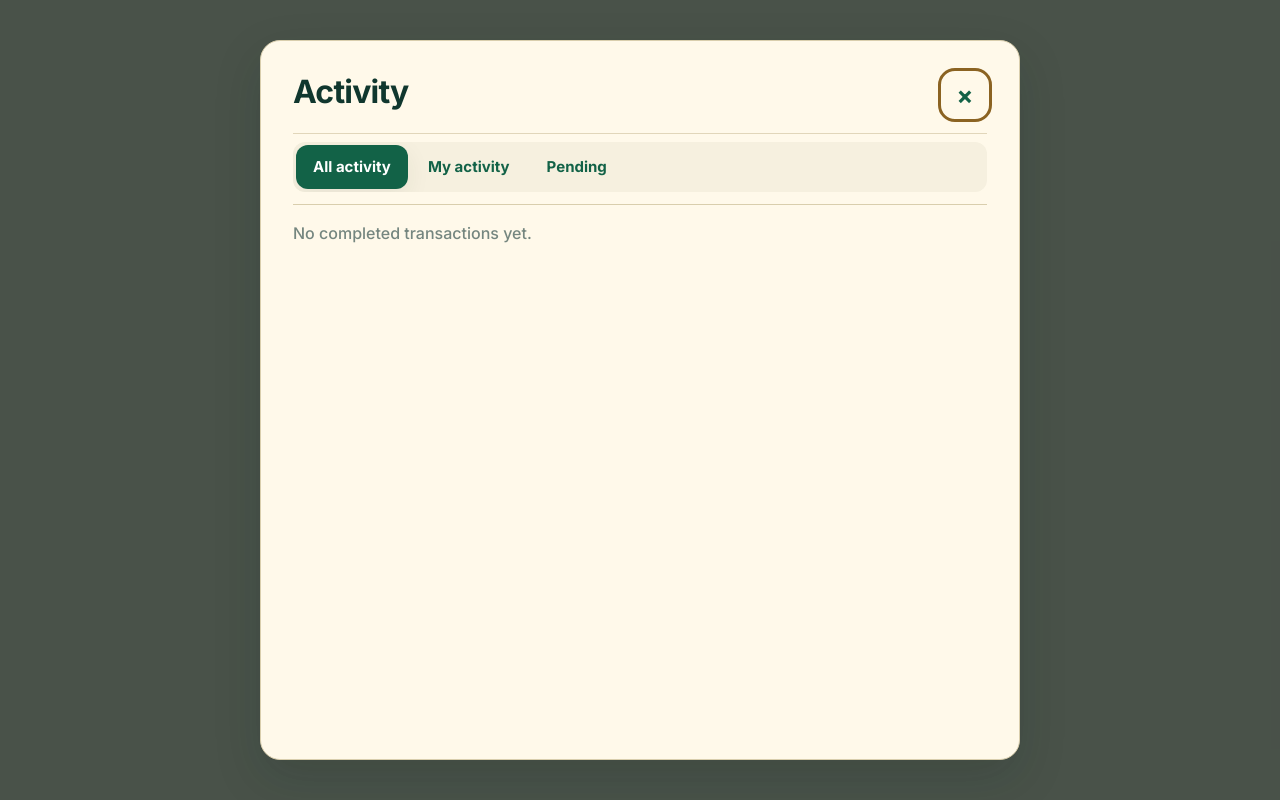
Scenario: activity accessibility › moves selection between tabs with the arrow, Home and End keys
Expected: the text "No completed transactions yet." is shown, [293,223,532,243]
Click the tab "All activity" at (352, 167), box [296,145,408,189]
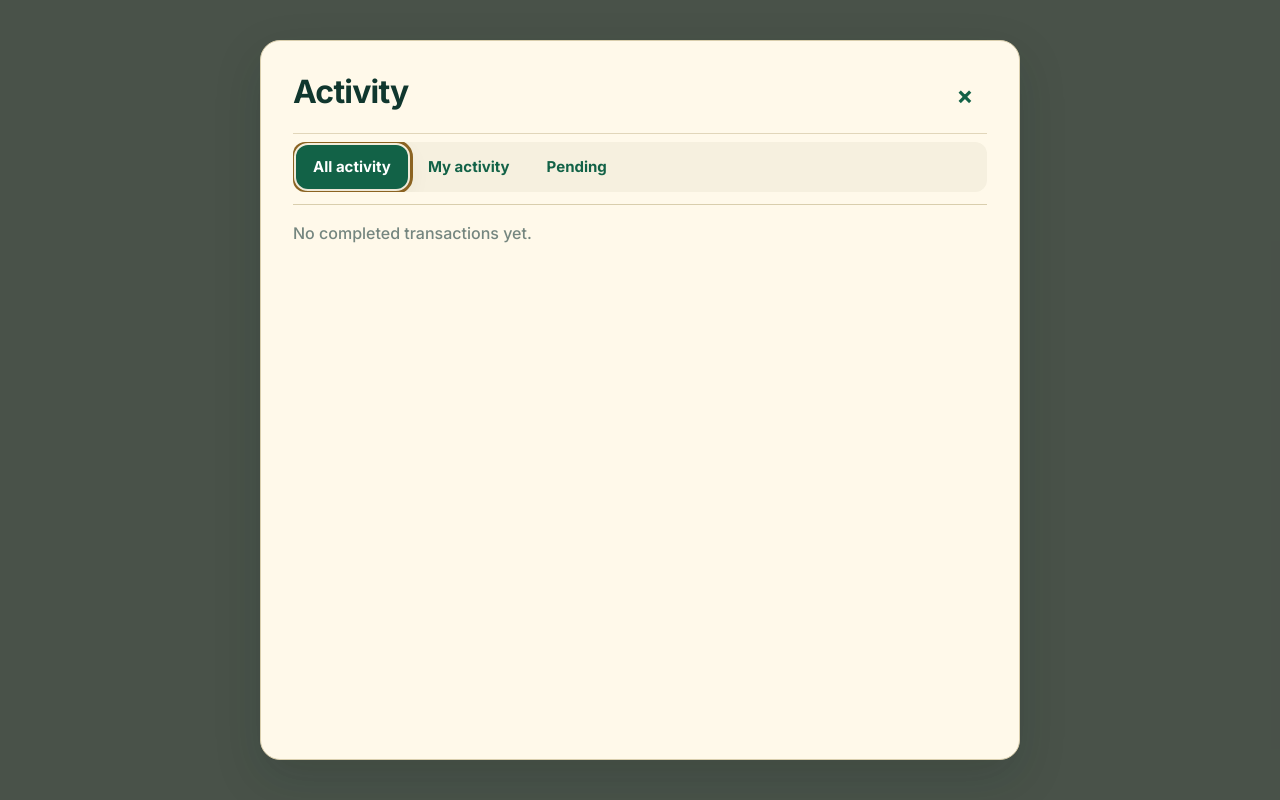
Press Arrowright
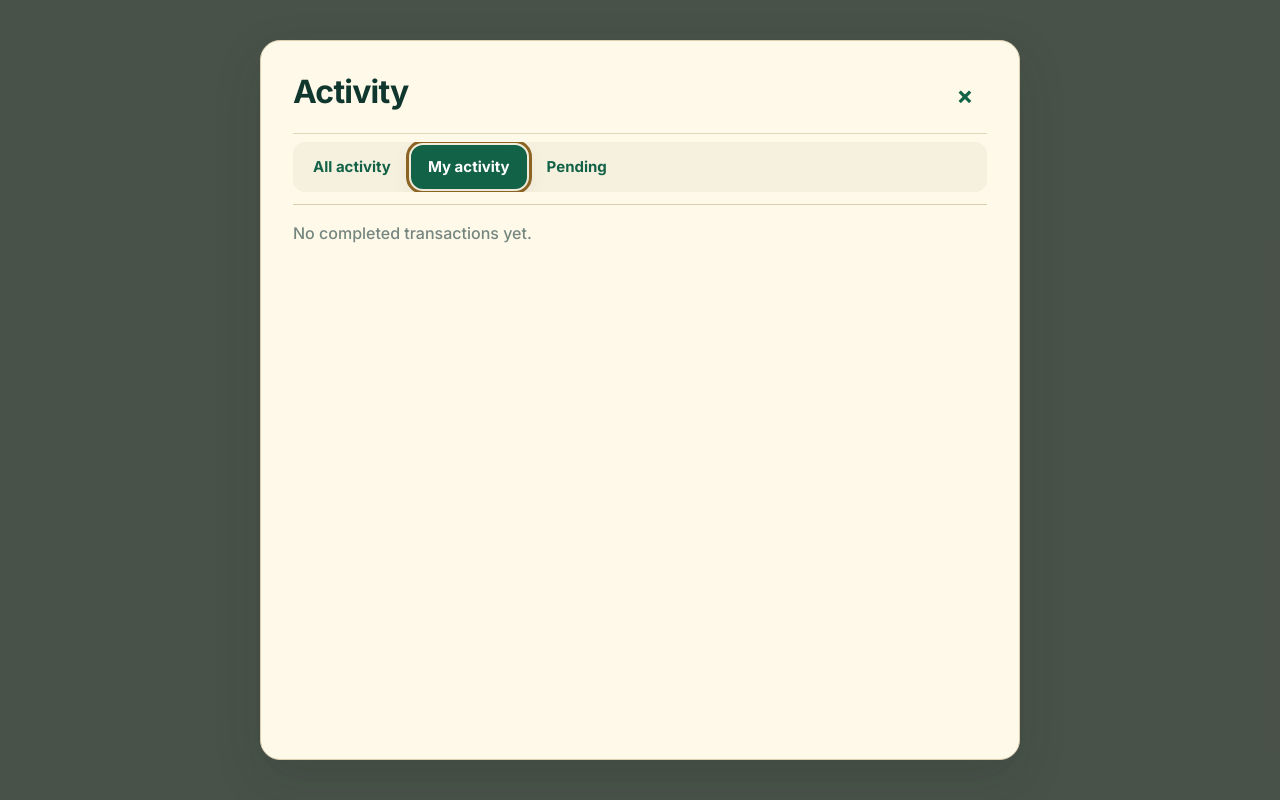
Expected: the tab "My activity" is selected, [411,145,527,189]
Expected: the tab "All activity" is not selected, [296,145,408,189]
Press End
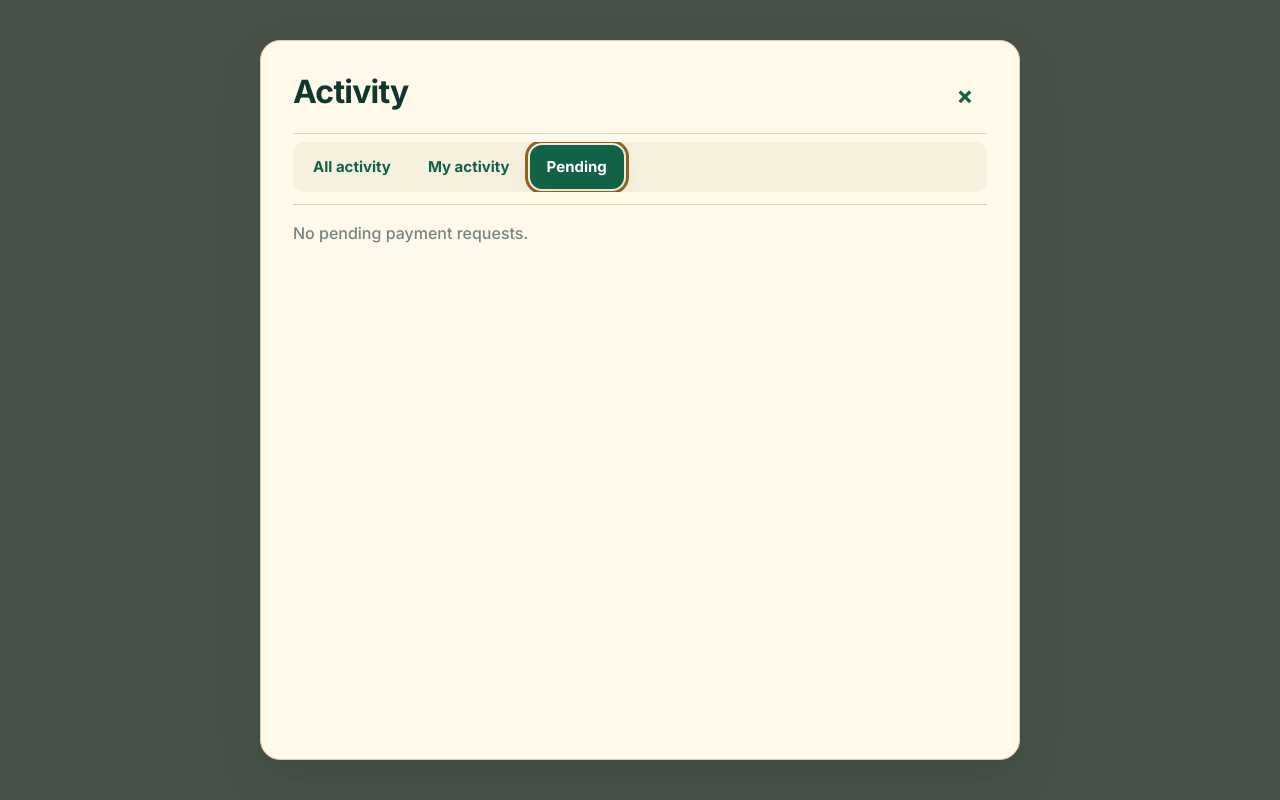
Expected: the tab "Pending" is selected, [530,145,624,189]
Press Arrowright
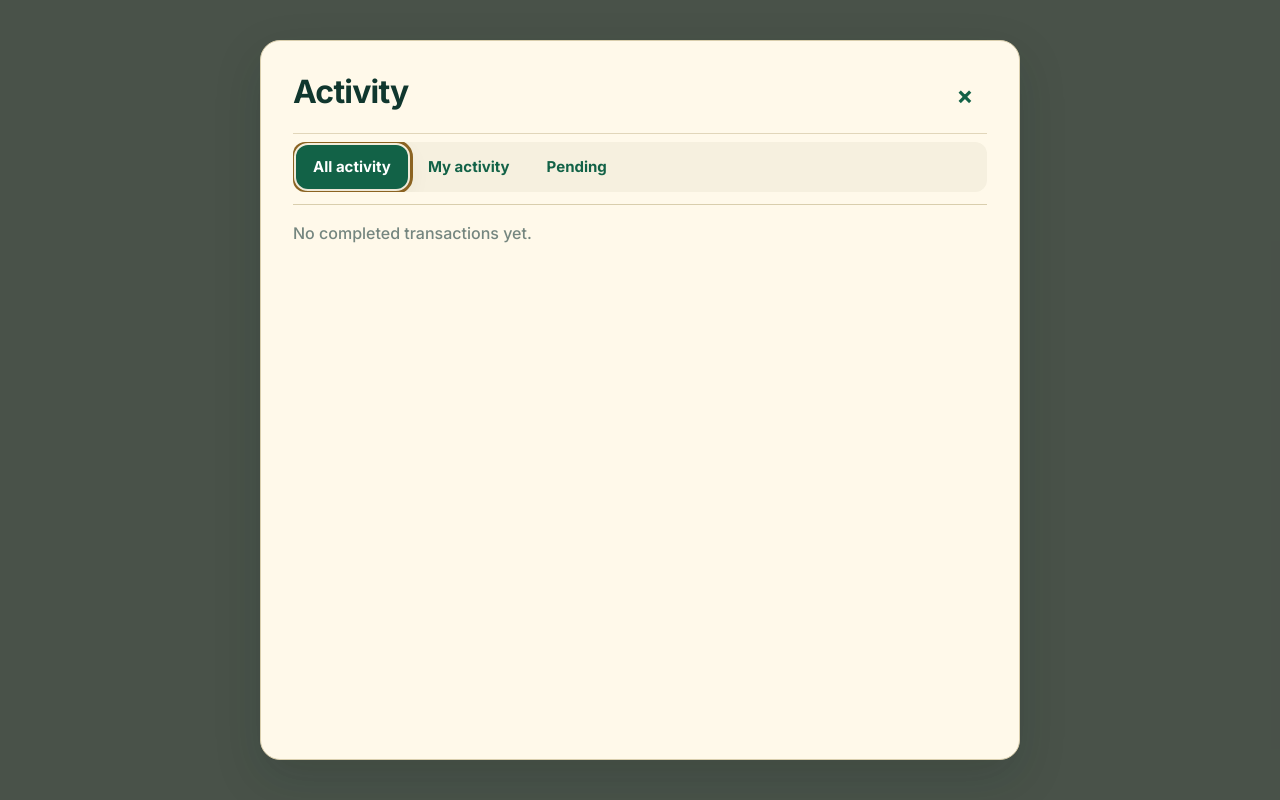
Expected: the tab "All activity" is selected, [296,145,408,189]
Press Arrowleft
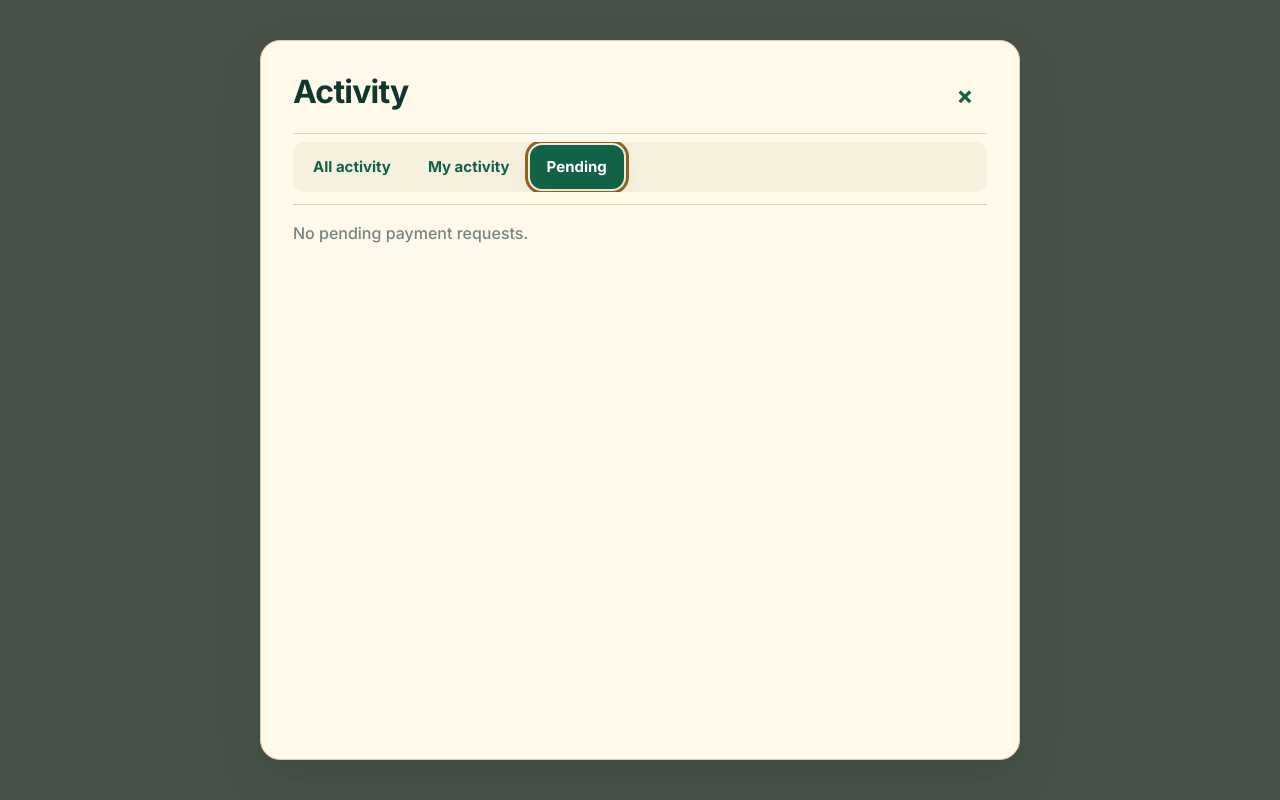
Press Home
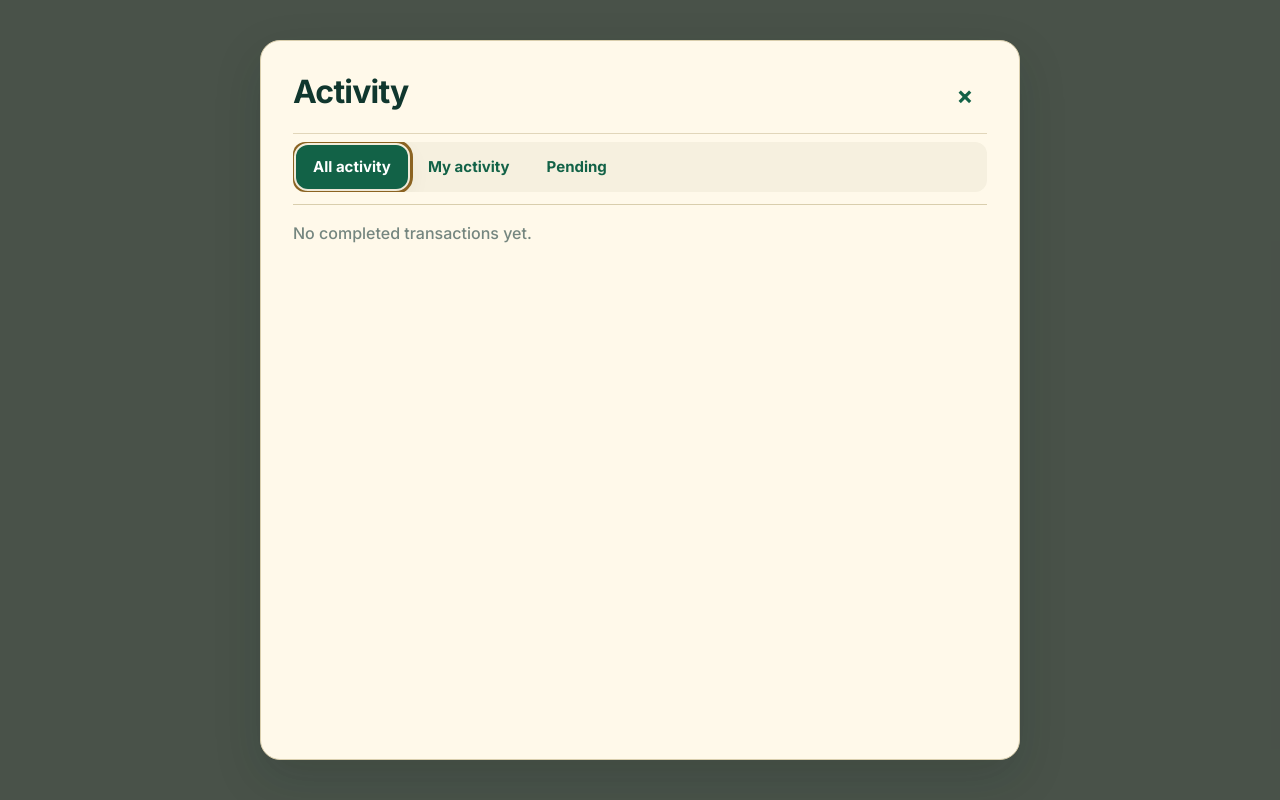
Expected: the text "No completed transactions yet." is shown, [293,223,532,243]
